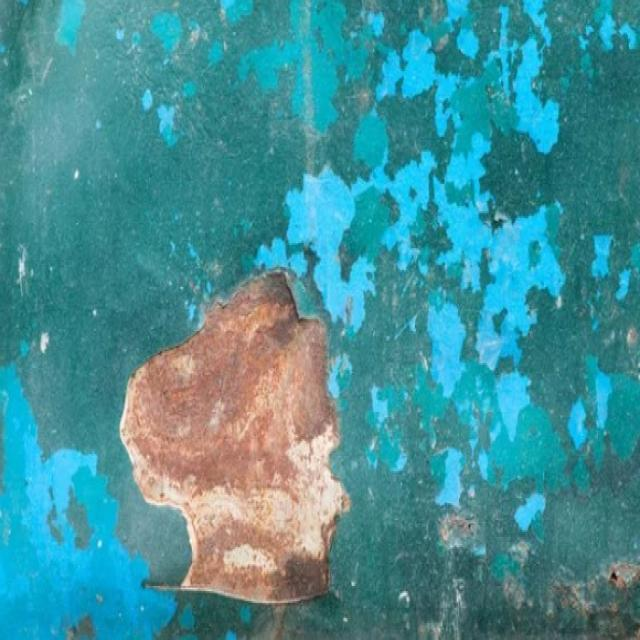Corrosion: (118, 267, 350, 604)
